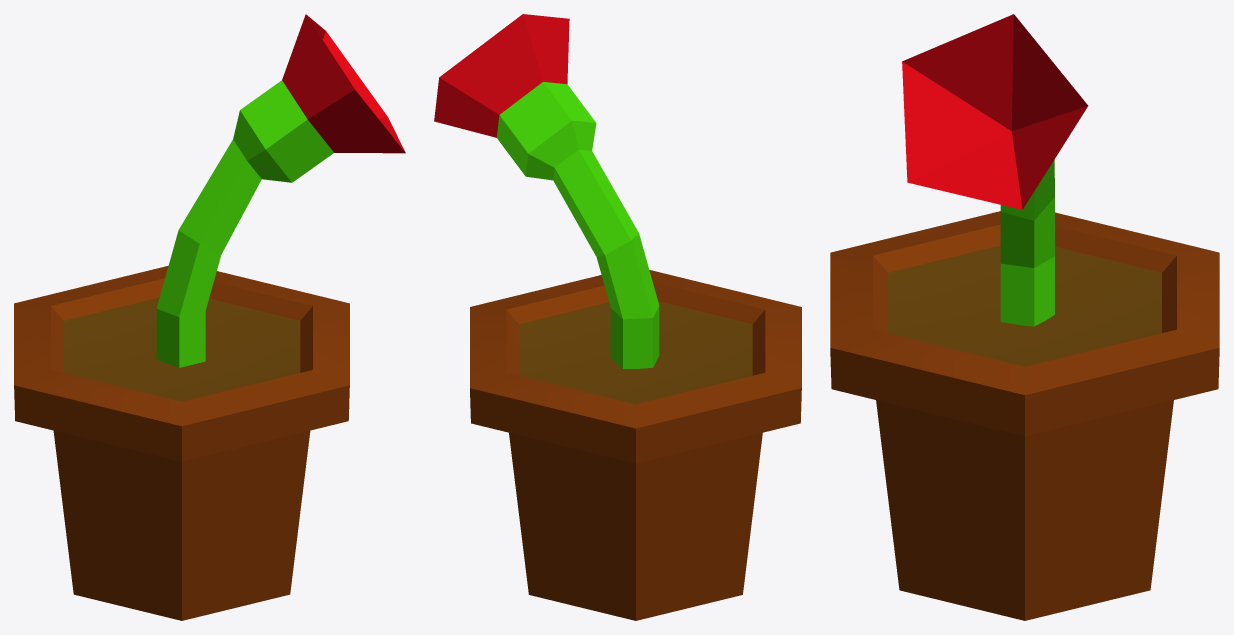
The model's file is Flower.fbx.
The picture shows the model from 3 angles, left to right: view 1: azimuth 30°, elevation 25°; view 2: azimuth 150°, elevation 25°; view 3: azimuth 270°, elevation 25°; orthographic projection. The views are drawn at different scales.
Parts seen in each view (by area): view 1: Cube, Cylinder; view 2: Cube, Cylinder; view 3: Cube, Cylinder.
Part boxes in pixels (bbox=[...]): Cube: bbox=[14, 265, 349, 620]; Cylinder: bbox=[156, 14, 405, 367]; Cube: bbox=[470, 270, 801, 620]; Cylinder: bbox=[434, 14, 659, 368]; Cube: bbox=[830, 211, 1219, 620]; Cylinder: bbox=[902, 14, 1088, 326].
Size of the model in its own units: 166 by 224 by 129.
